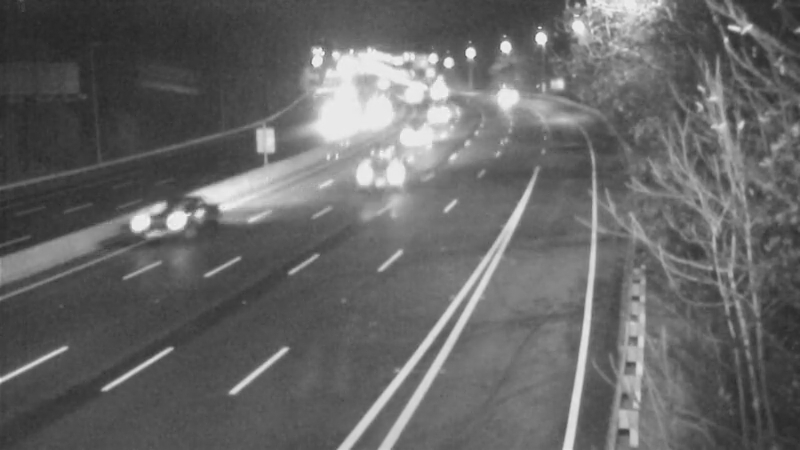vehicle: (341, 136, 421, 216), (410, 67, 460, 117), (467, 67, 517, 117), (383, 68, 433, 118), (410, 85, 460, 135), (396, 106, 446, 156), (348, 95, 398, 145), (310, 94, 360, 144), (322, 74, 372, 124)
